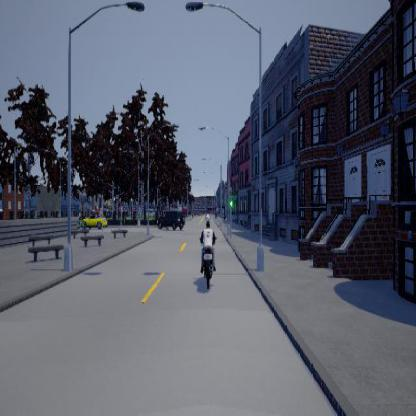motobike: (198, 219, 217, 288)
traffic_light_green: (229, 187, 232, 208)
vehicle: (77, 208, 107, 230), (156, 209, 185, 229)
